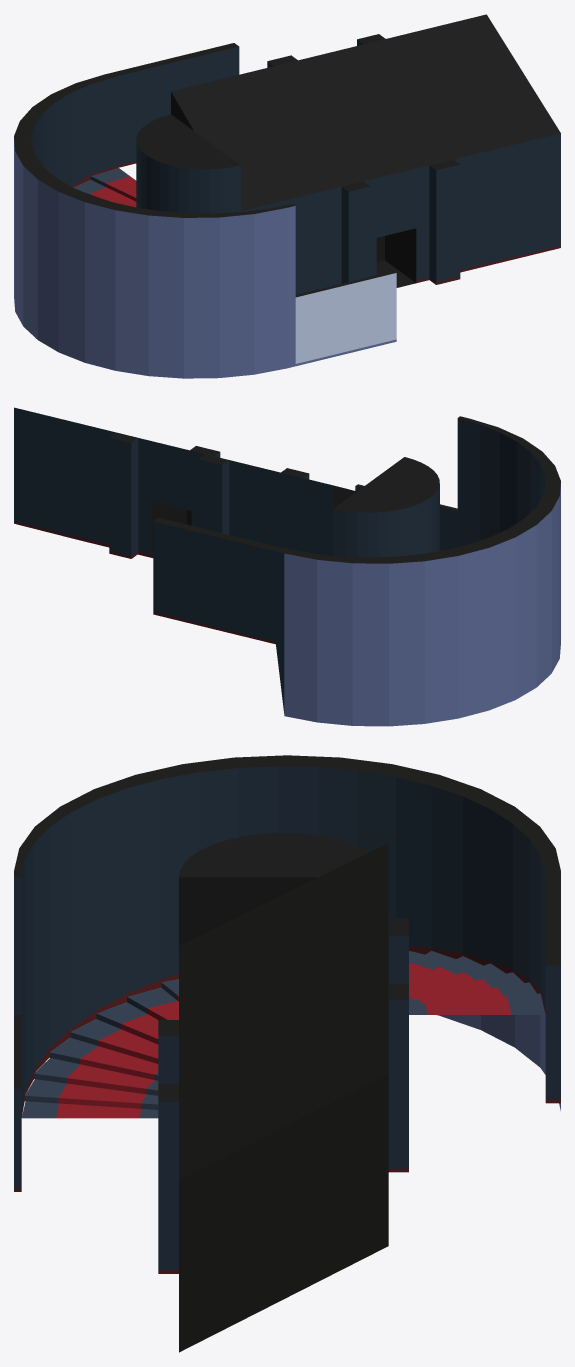
The model's file is stairs_and_elevator_wall.fbx.
3 views of the same model, one above another, from view 1: azimuth 30°, elevation 25°; view 2: azimuth 150°, elevation 25°; view 3: azimuth 270°, elevation 25° (orthographic). The views are drawn at different scales.
Visible parts, largest first — view 1: elevator_wall, stairs_wall.001, stairs_wall, stairs; view 2: stairs_wall.001, elevator_wall, stairs_wall; view 3: elevator_wall, stairs_wall.001, stairs, stairs_wall.
Part boxes in pixels (x1,y1,x2,y2): elevator_wall: (171, 14, 560, 294); stairs_wall.001: (14, 43, 396, 378); stairs_wall: (136, 114, 240, 213); stairs: (73, 168, 136, 207); stairs_wall.001: (153, 416, 560, 726); elevator_wall: (14, 407, 356, 558); stairs_wall: (333, 457, 439, 557); elevator_wall: (158, 843, 408, 1352); stairs_wall.001: (14, 755, 560, 1191); stairs: (21, 951, 545, 1118); stairs_wall: (179, 833, 369, 945).
Size of the model in its own units: 22.2 by 14.4 by 8.
